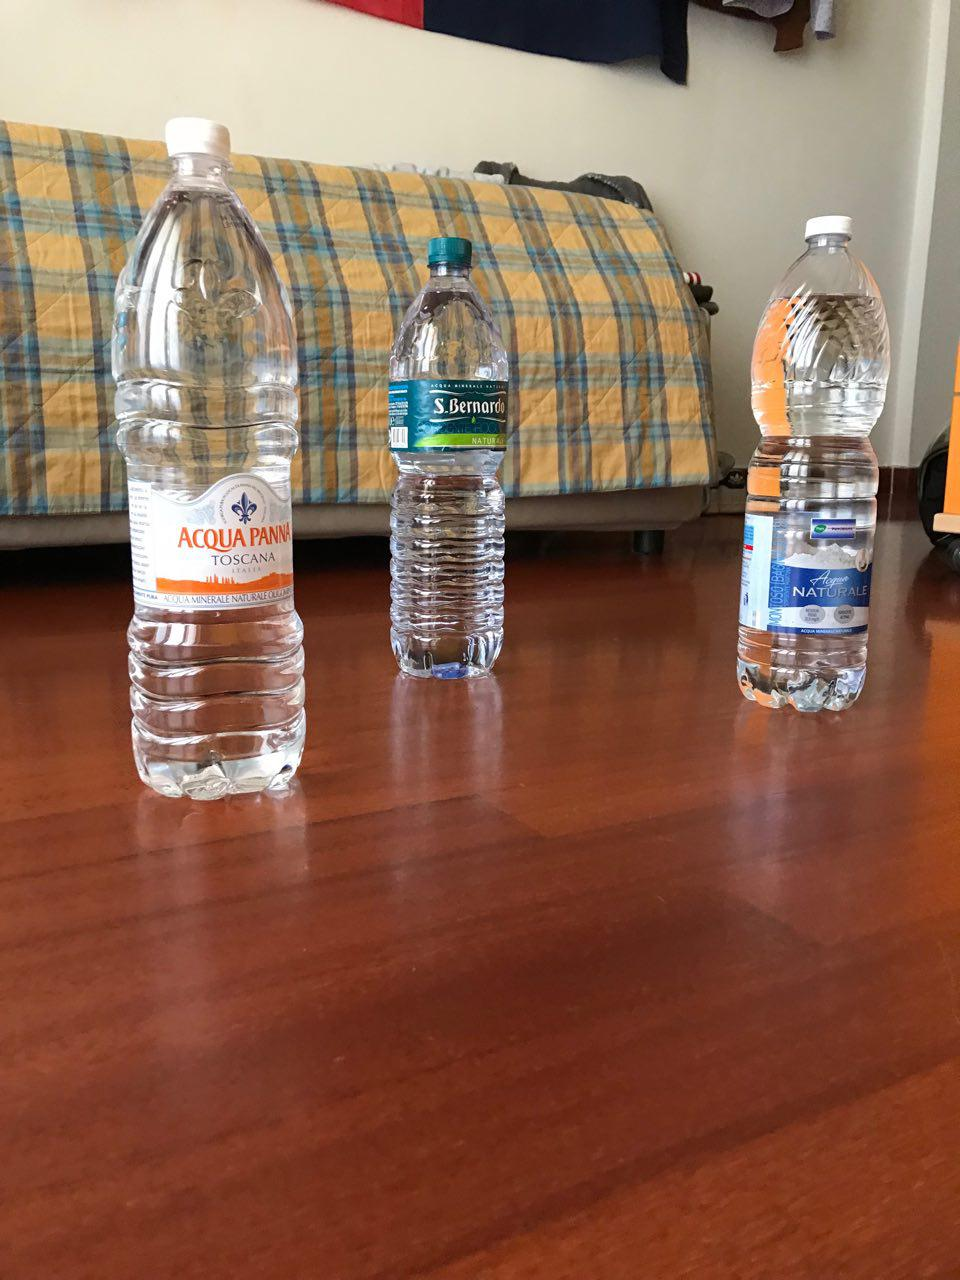san_bernardo: (386, 236, 510, 680)
